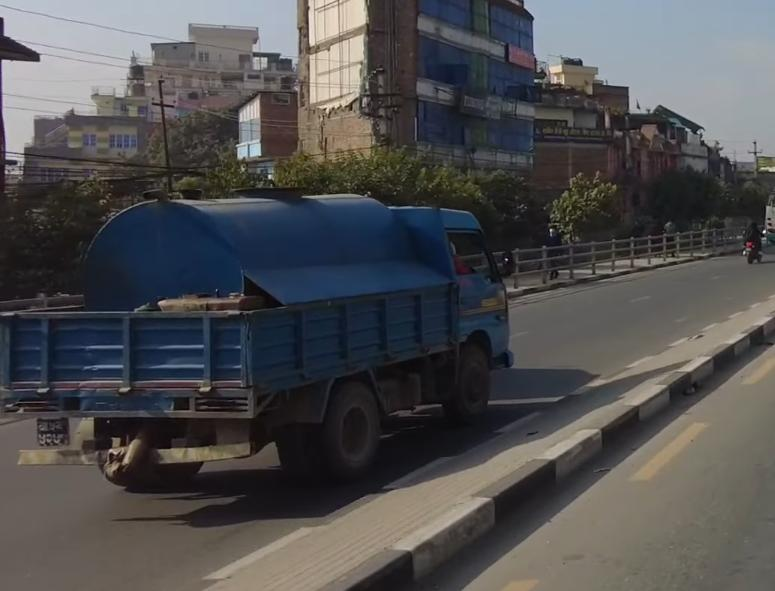bike: (735, 219, 772, 272)
mini_truck: (0, 183, 521, 495)
